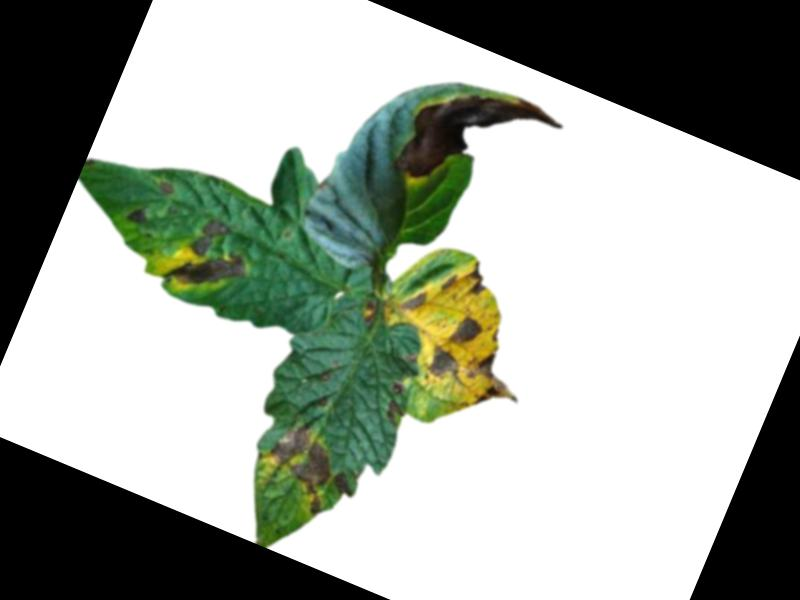Early_blight: (392, 62, 567, 223), (254, 414, 351, 518), (163, 208, 261, 307), (453, 344, 537, 422), (421, 341, 465, 384), (446, 310, 488, 353), (378, 377, 414, 424), (460, 257, 495, 297), (329, 469, 361, 501), (399, 283, 430, 316), (125, 202, 150, 229), (441, 268, 461, 294), (360, 299, 380, 325), (157, 178, 177, 195)
